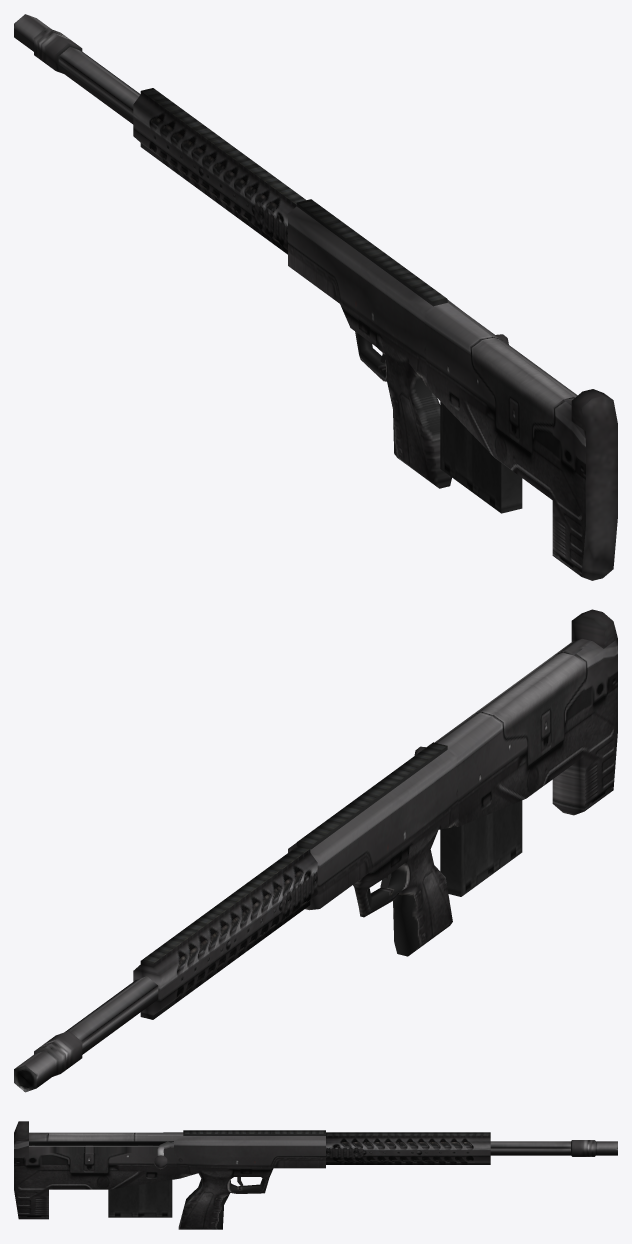
The model's file is BoltActionSniper.fbx.
3 renders of one model, top to bottom at view 1: azimuth 30°, elevation 25°; view 2: azimuth 150°, elevation 25°; view 3: azimuth 270°, elevation 25°, orthographic. The views are drawn at different scales.
Visible parts, largest first — view 1: Bolt Action Sniper, Hand Guard, Mag, Barrel; view 2: Bolt Action Sniper, Hand Guard, Mag, Barrel; view 3: Bolt Action Sniper, Hand Guard, Mag, Barrel, Bolt.
Boxes of the visible parts, box(x1,y1,x2,y2) form: Bolt Action Sniper: box(288, 199, 617, 580); Hand Guard: box(133, 88, 306, 254); Mag: box(440, 401, 522, 513); Barrel: box(14, 14, 140, 124); Bolt Action Sniper: box(288, 609, 617, 956); Hand Guard: box(133, 846, 317, 1019); Mag: box(440, 800, 522, 896); Barrel: box(14, 976, 158, 1092); Bolt Action Sniper: box(14, 1121, 325, 1229); Hand Guard: box(326, 1132, 490, 1164); Mag: box(108, 1180, 172, 1217); Barrel: box(490, 1140, 617, 1156); Bolt: box(154, 1141, 173, 1169).
Size of the model in its own units: 30.2 by 92.22 by 478.
1 material, 1 textured.
